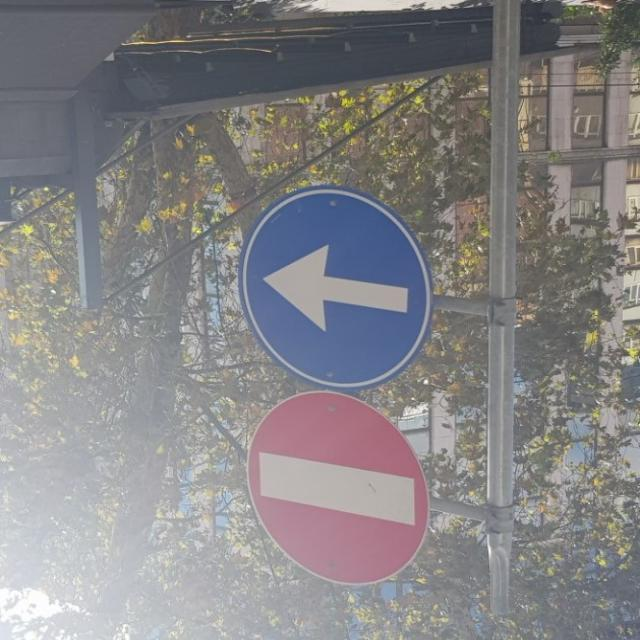No Entry: (238, 392, 436, 588)
